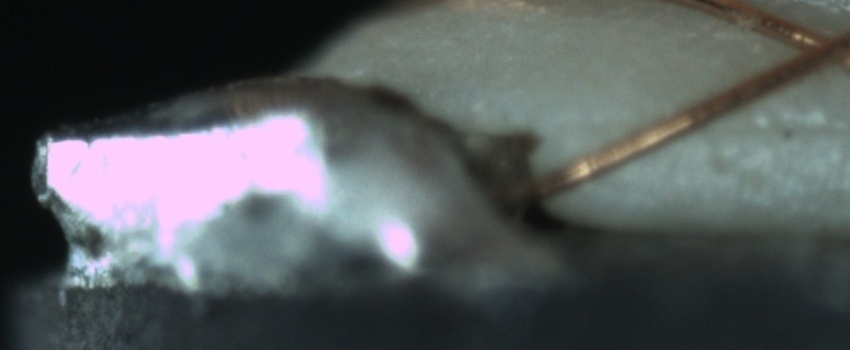CL: (767, 9, 850, 81)
DL: (618, 92, 849, 160)
